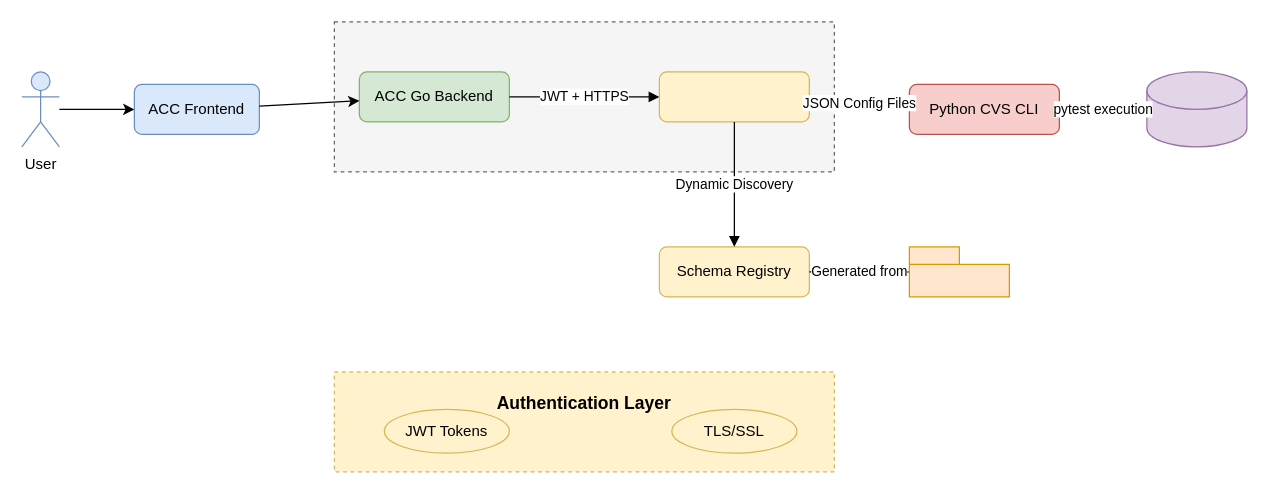
The diagram is 1269 pixels wide and 494 high, and some of its shapes have lost their labels. Each missing label, with the box of its shape:
Config Files: (908, 246, 1009, 297)
CVS Go API Server: (658, 71, 809, 122)
Docker Containers: (333, 21, 834, 172)
Test Results: (1146, 71, 1247, 147)
